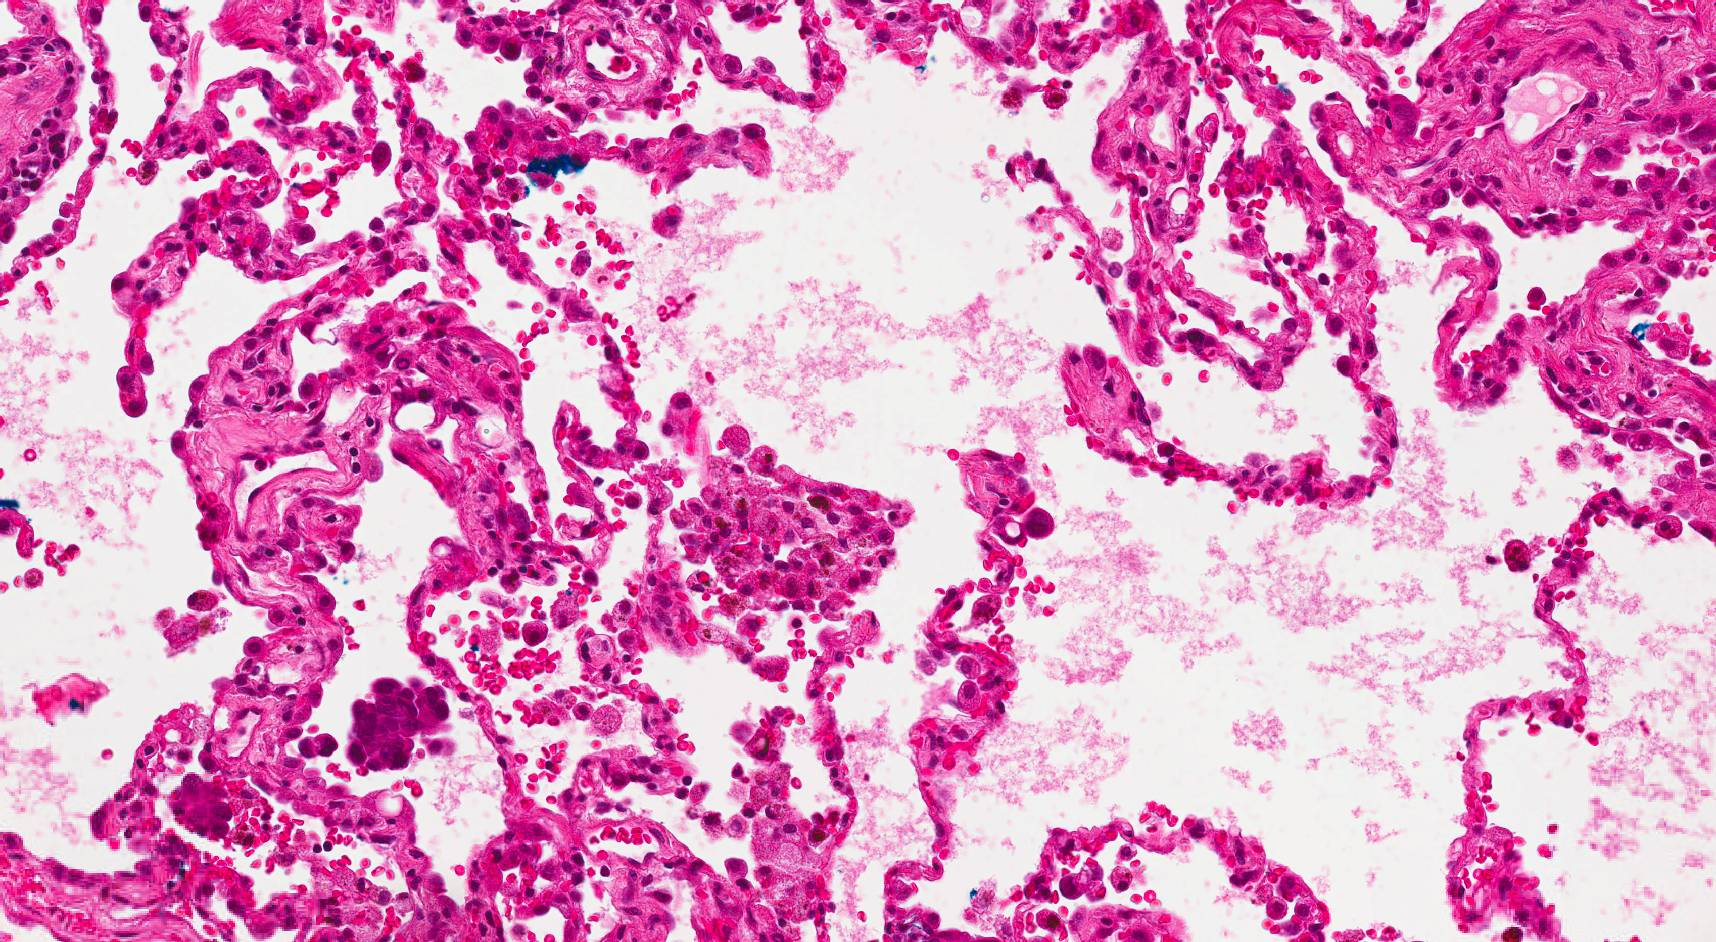stas: (346, 674, 453, 781), (167, 774, 232, 840), (295, 726, 341, 760)
